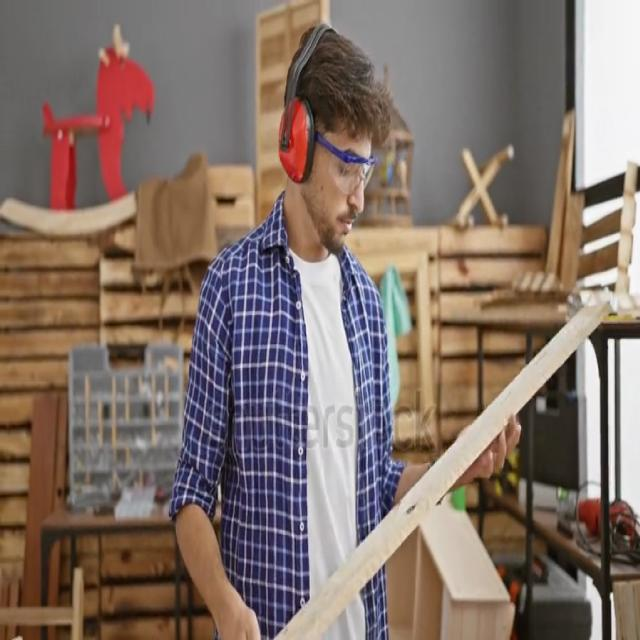Ear-Protection: (275, 89, 315, 210)
Glasses: (321, 128, 379, 208)
